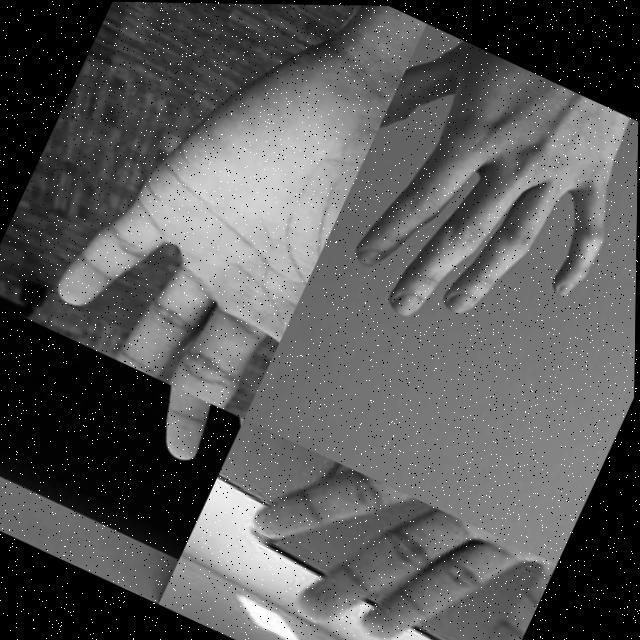no-gloves: (26, 1, 403, 420), (310, 21, 640, 380), (228, 441, 560, 640), (0, 310, 246, 485)
